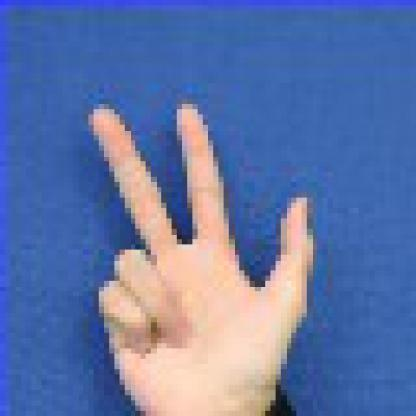eight: (68, 76, 358, 415)
